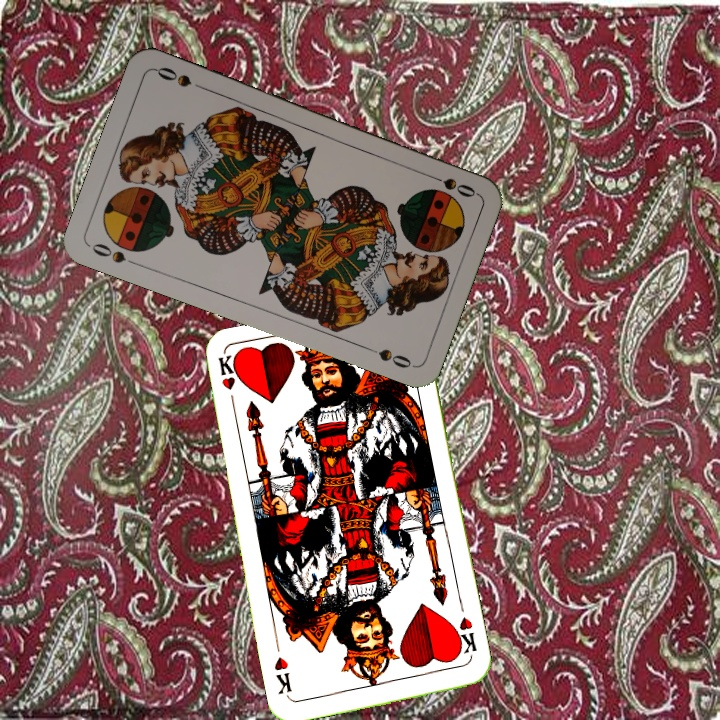HK: (214, 353, 238, 412), (449, 613, 479, 659)
SO: (421, 169, 479, 200), (88, 239, 143, 269)
